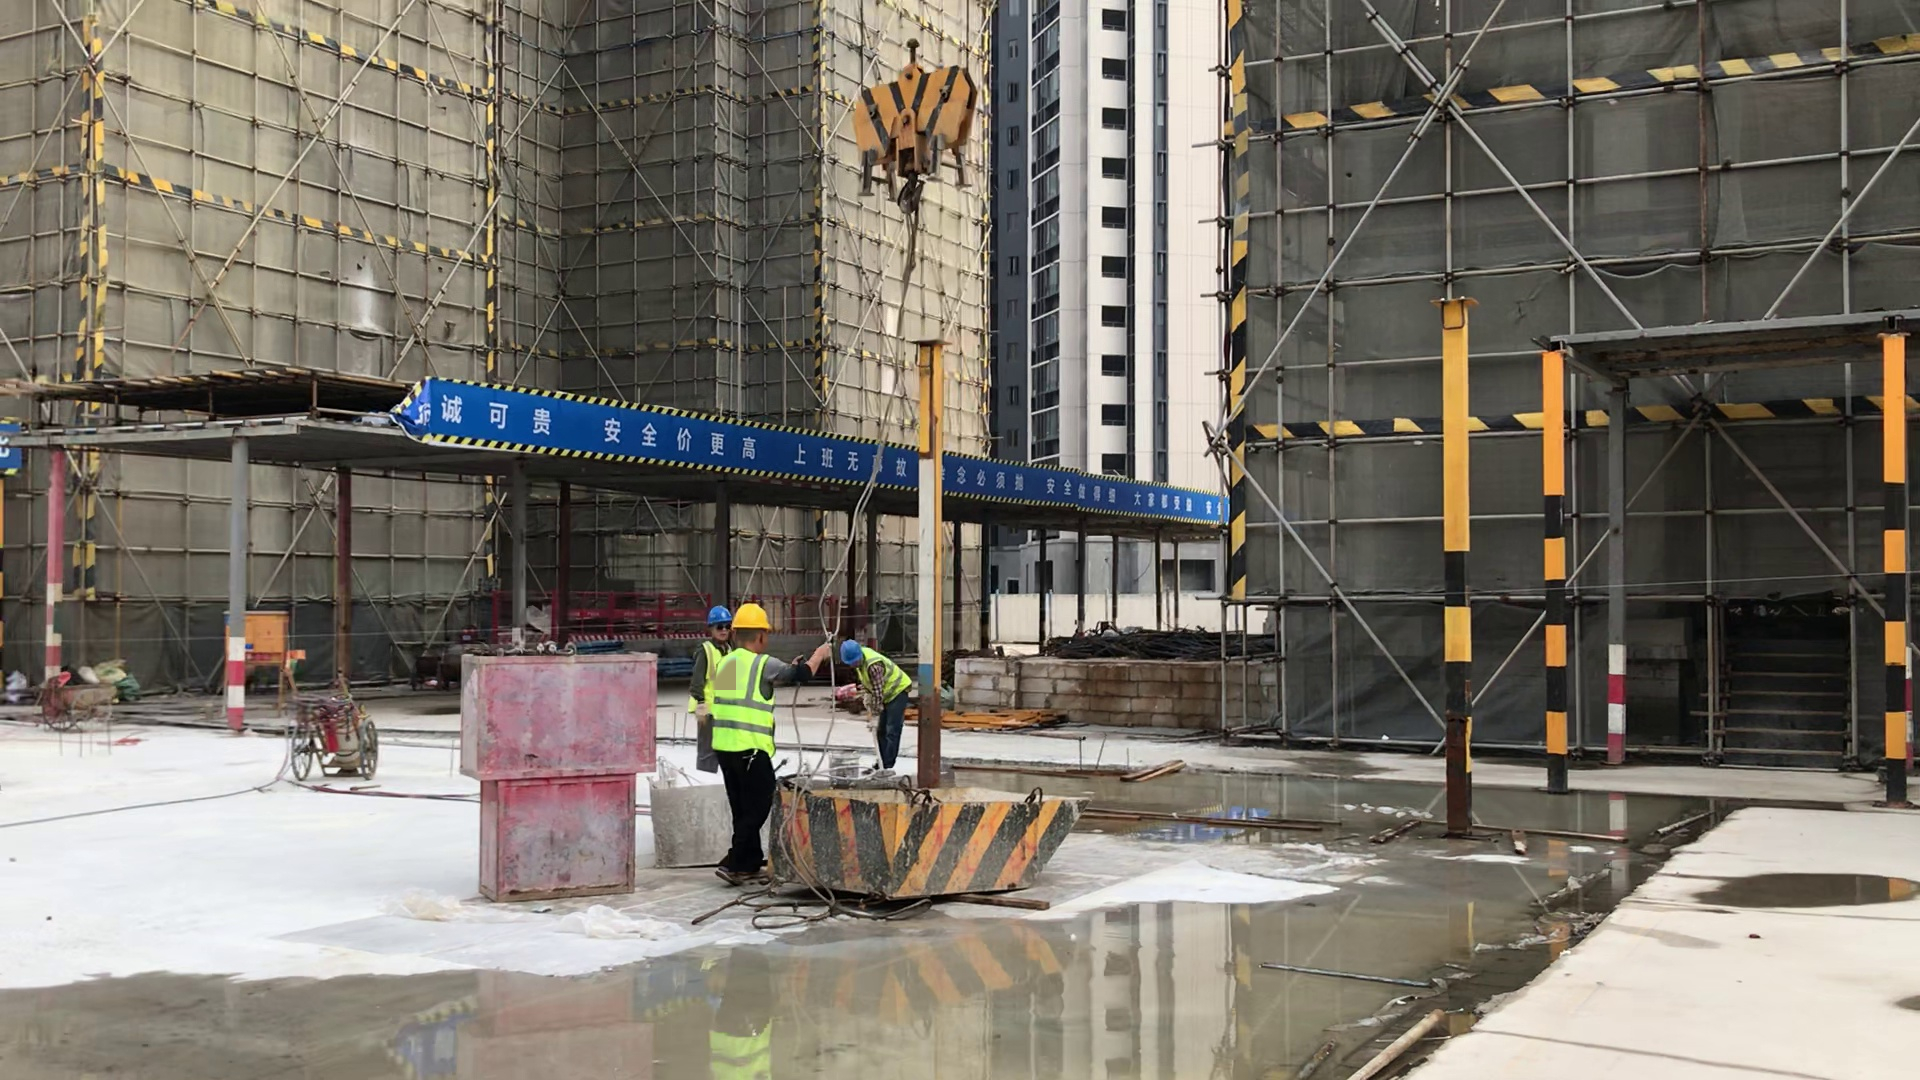ebox: (223, 608, 294, 671)
handcart: (265, 675, 397, 794), (16, 671, 127, 735)
helmet: (730, 604, 773, 630), (838, 641, 864, 663), (703, 606, 732, 623)
hook: (845, 46, 989, 209)
hopper: (767, 778, 1085, 916)
person: (697, 601, 843, 883), (829, 639, 926, 786), (677, 601, 744, 763)
slogan: (437, 364, 1226, 522)
vest: (708, 649, 774, 753), (860, 650, 910, 698), (691, 641, 714, 712)
